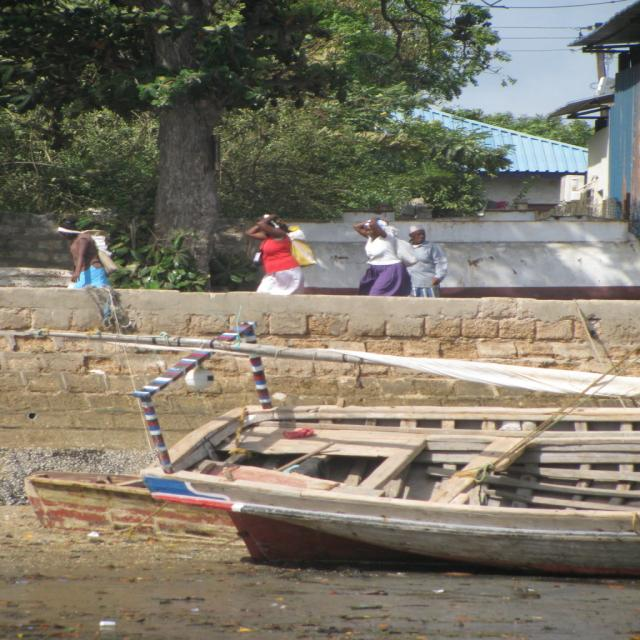Boat: (35, 314, 640, 580)
